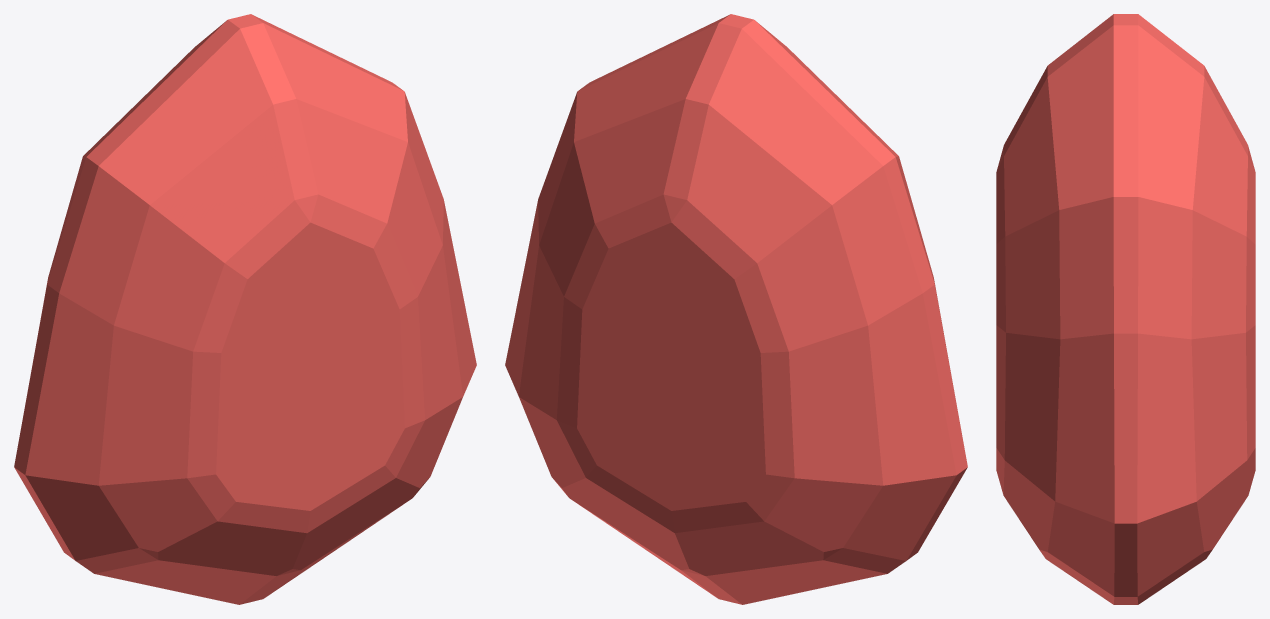
The model's file is garnet.glb.
The picture shows the model from 3 angles, left to right: view 1: azimuth 30°, elevation 25°; view 2: azimuth 150°, elevation 25°; view 3: azimuth 270°, elevation 25°; orthographic projection.
Visible parts, largest first — view 1: Granada; view 2: Granada; view 3: Granada.
Boxes of the visible parts, x1,y1,x2,y2 form: Granada: (14, 14, 476, 604); Granada: (505, 14, 967, 604); Granada: (996, 14, 1255, 604).
Size of the model in its own units: 0.8194 by 0.9996 by 0.4087.
